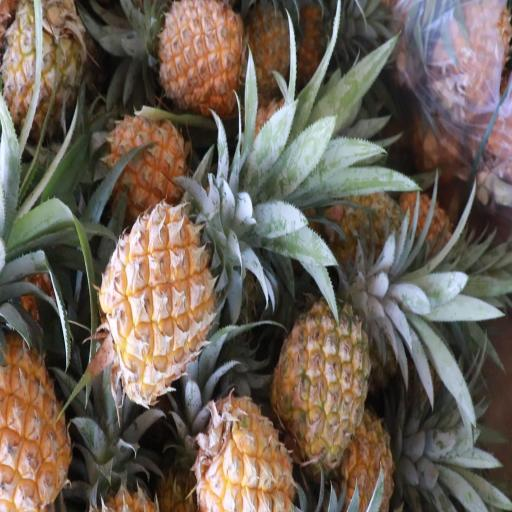------------------------------: (273, 304, 365, 463), (4, 0, 78, 134)
Pineapple - v8 v1: (102, 211, 210, 393), (0, 314, 64, 508), (191, 394, 289, 512), (158, 0, 243, 110), (104, 118, 187, 213)
